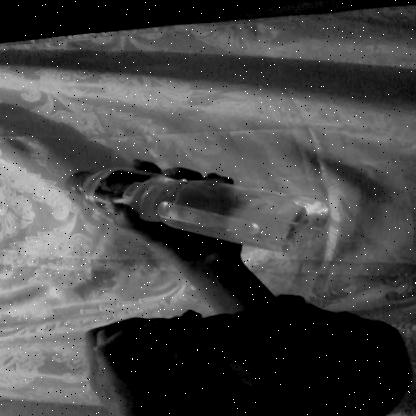Plastic Bottle: (25, 161, 360, 257)
